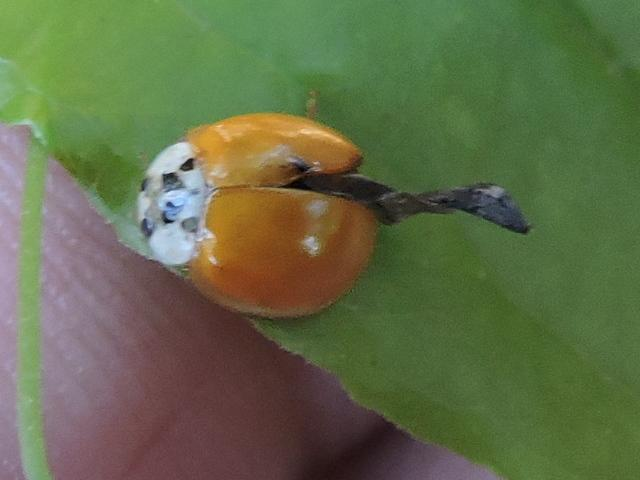ladybug: (136, 87, 535, 322)
